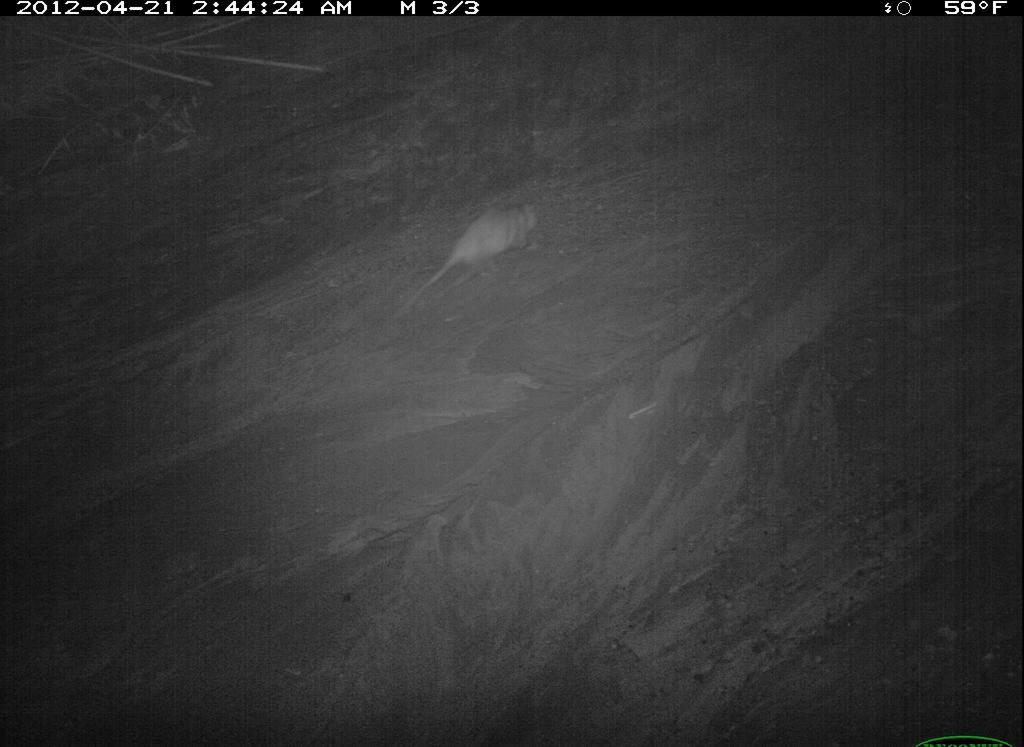opossum: (808, 399, 1024, 622)
